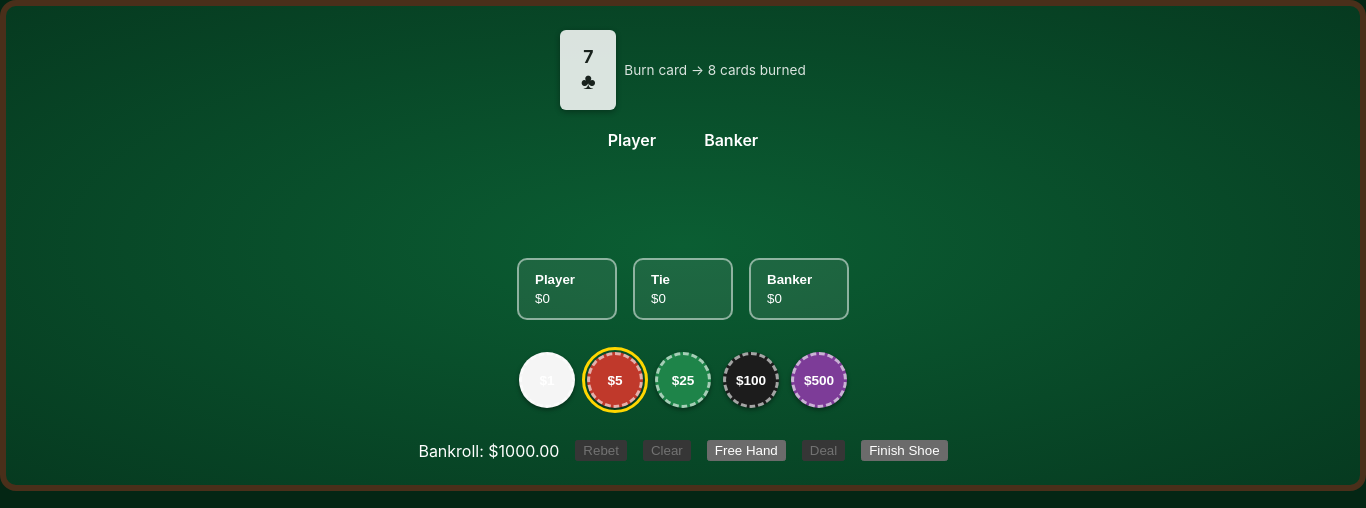
Scenario: Table › clears all bets and refunds the bankroll
Check: the text "Bankroll: $1000.00" is shown, box 418,440 -> 559,460
Click the button with test id "chip-25".
click(683, 380)  # box 655,352 -> 711,408
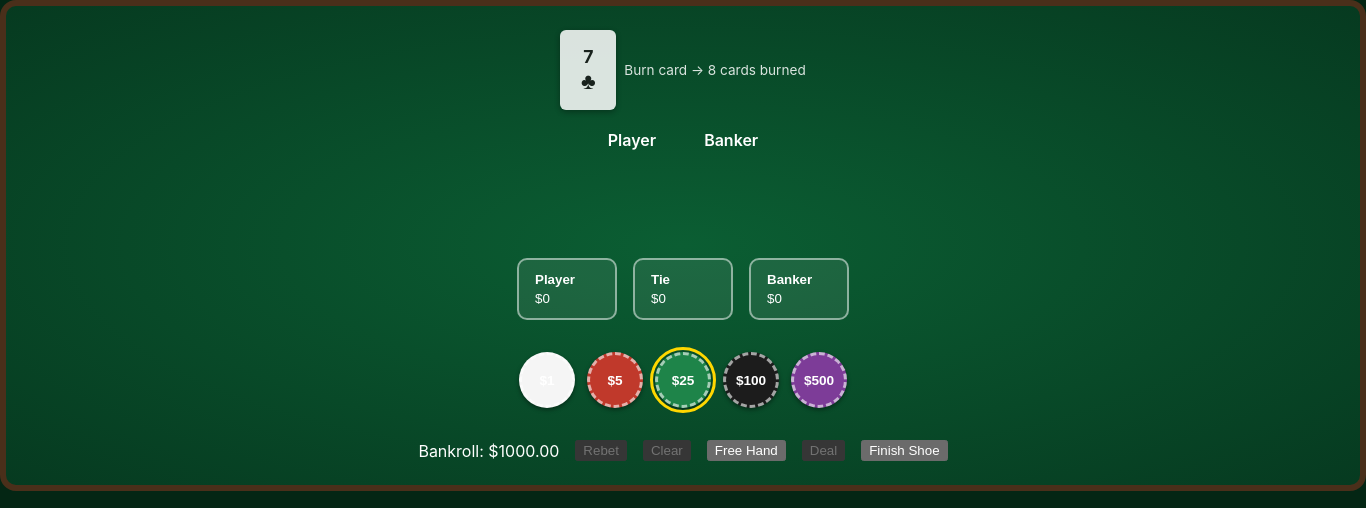
Click the button with test id "bet-spot-player".
click(567, 289)  # box 517,258 -> 617,320
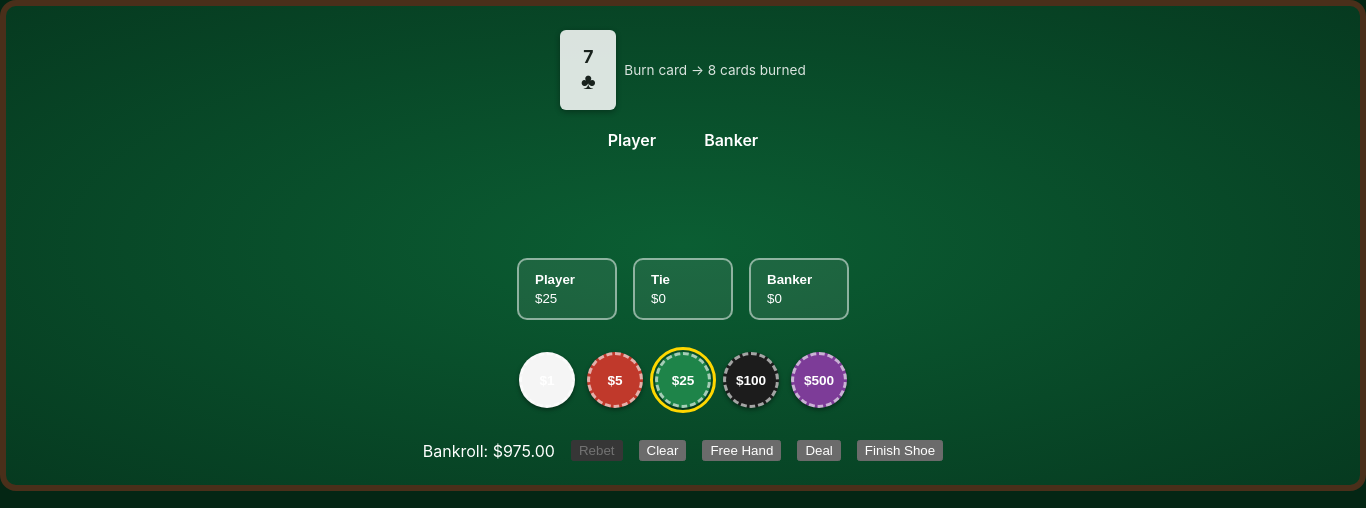
Check: the text "Bankroll: $975.00" is shown, box 423,440 -> 555,460
Click the button "Clear".
click(662, 450)  # box 638,440 -> 686,461
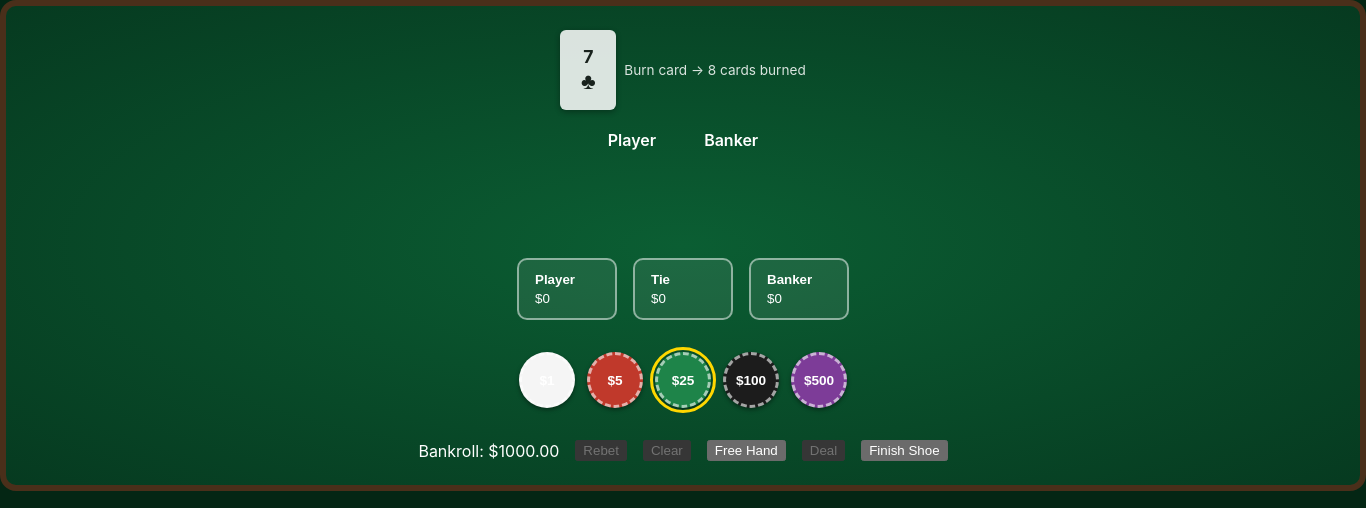
Check: the text "Bankroll: $1000.00" is shown, box 418,440 -> 559,460
